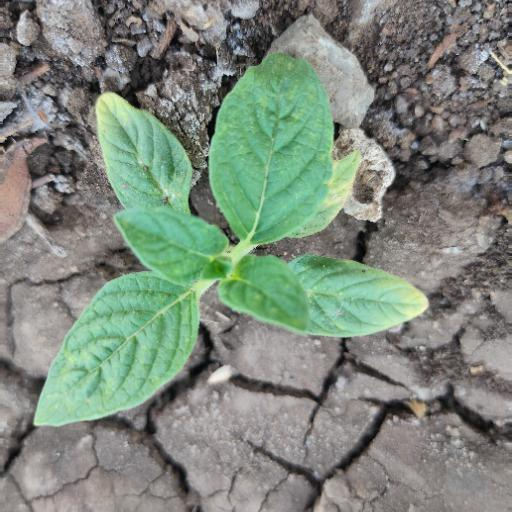crop: (44, 50, 428, 446)
